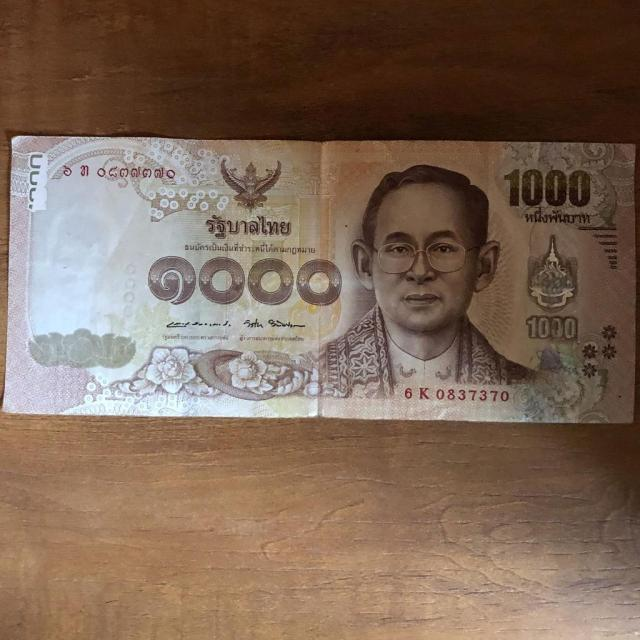THAI1000: (3, 136, 634, 423)
